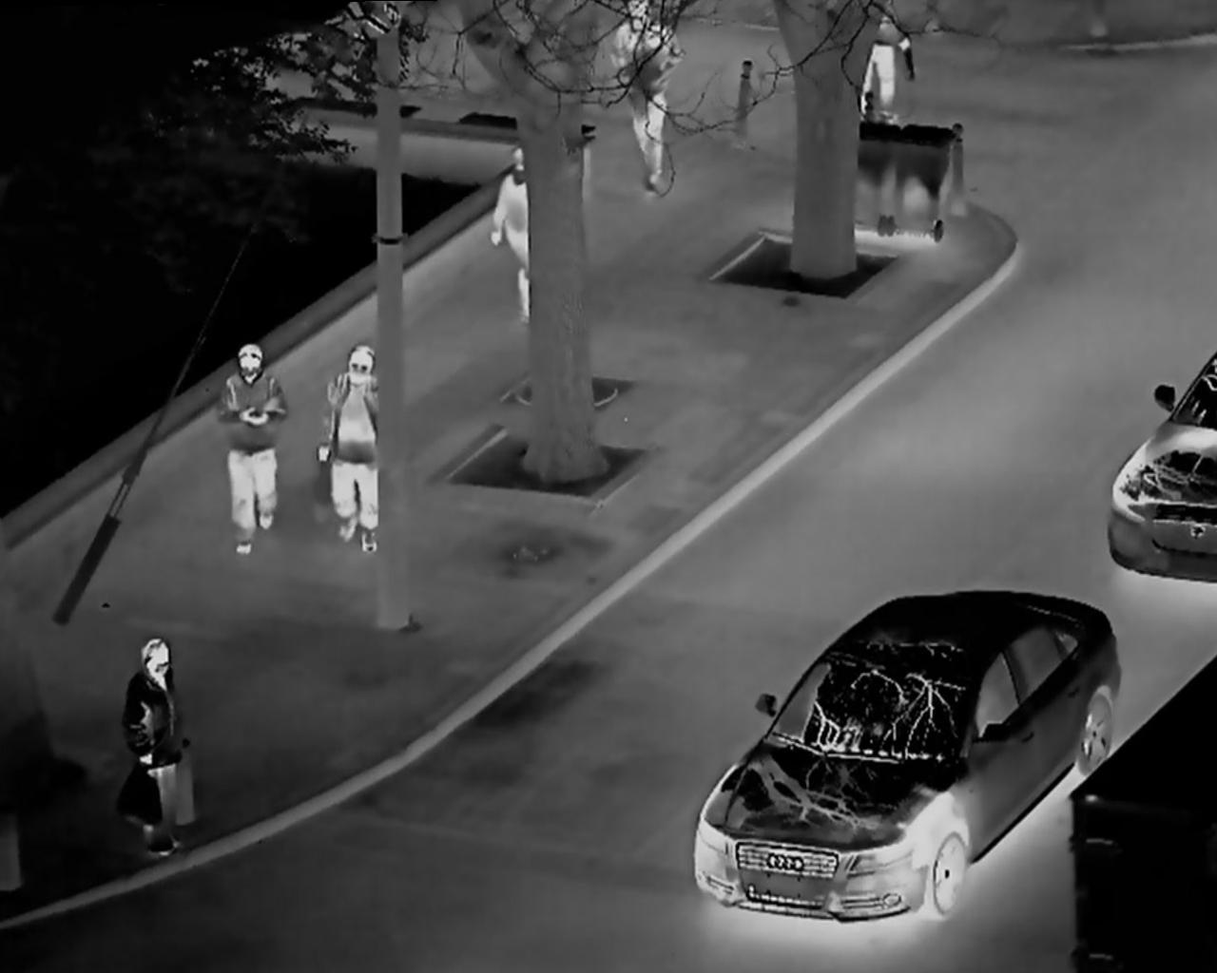person: (106, 623, 209, 868), (215, 329, 296, 552), (318, 327, 392, 560), (491, 144, 542, 329), (860, 5, 918, 135)
